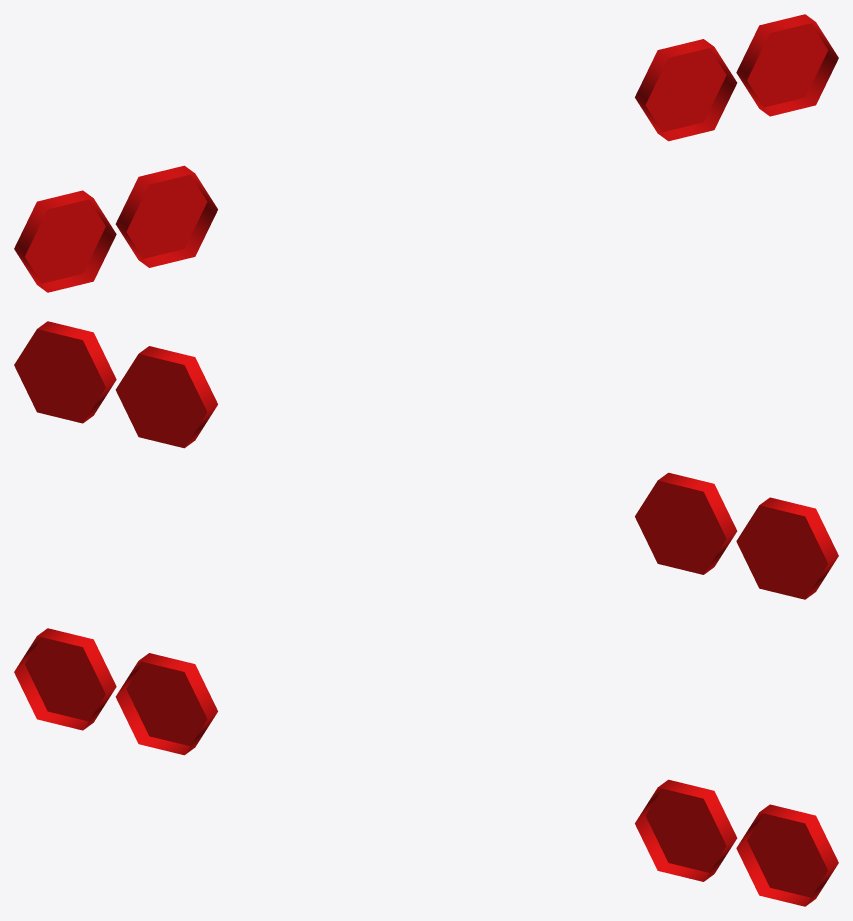
File: Car2Stop.fbx
The picture shows the model from 3 angles, top to bottom: view 1: azimuth 30°, elevation 25°; view 2: azimuth 150°, elevation 25°; view 3: azimuth 330°, elevation 25°; orthographic projection.
Parts seen in each view (by area): view 1: Car2Stop; view 2: Car2Stop; view 3: Car2Stop.
Boxes of the visible parts, x1,y1,x2,y2 form: Car2Stop: (14,14,838,292); Car2Stop: (14,321,838,599); Car2Stop: (14,628,838,906).
Size of the model in its own units: 2.14 by 0.2098 by 0.049.
